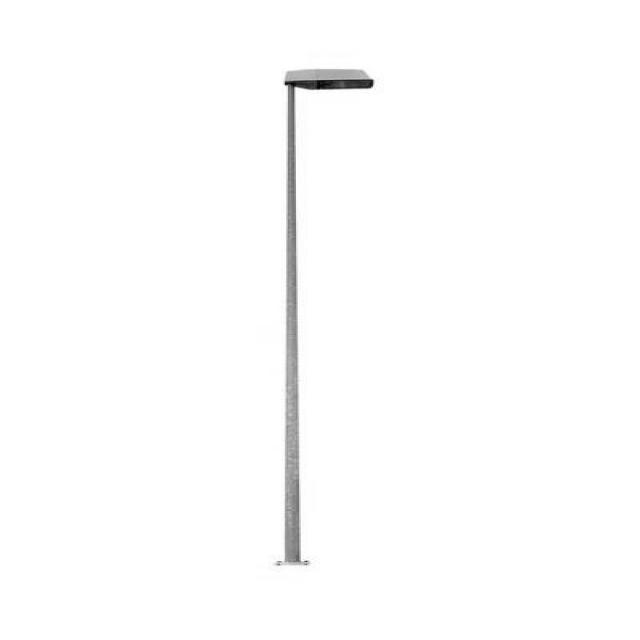Pole: (284, 69, 374, 565)
